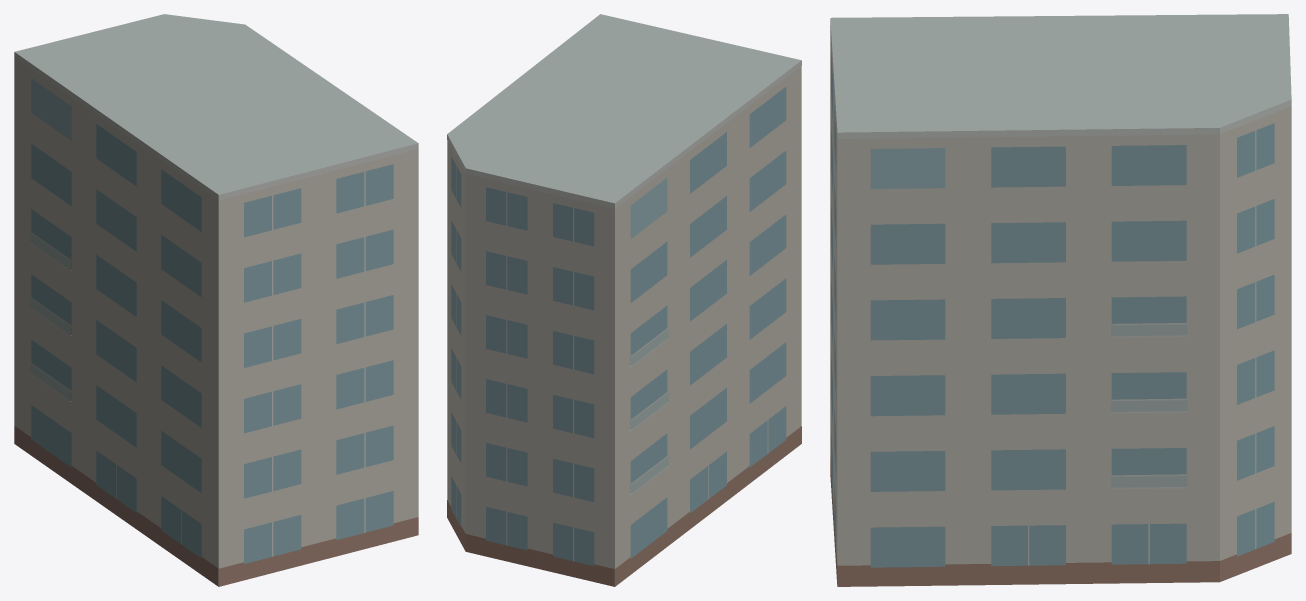
Rendered from survey-upis-32879148.glb.
3 views of the same model, side by side, from view 1: azimuth 30°, elevation 25°; view 2: azimuth 150°, elevation 25°; view 3: azimuth 270°, elevation 25° (orthographic). The views are drawn at different scales.
Parts seen in each view (by area): view 1: survey-upis-32879148.tmp; view 2: survey-upis-32879148.tmp; view 3: survey-upis-32879148.tmp.
Part boxes in pixels (left/top/right/bottom): survey-upis-32879148.tmp: left=14, top=14, right=418, bottom=586; survey-upis-32879148.tmp: left=447, top=14, right=801, bottom=586; survey-upis-32879148.tmp: left=830, top=14, right=1291, bottom=586.
Bounding box in the file's own units: 9.47 × 16.9 × 15.56.
